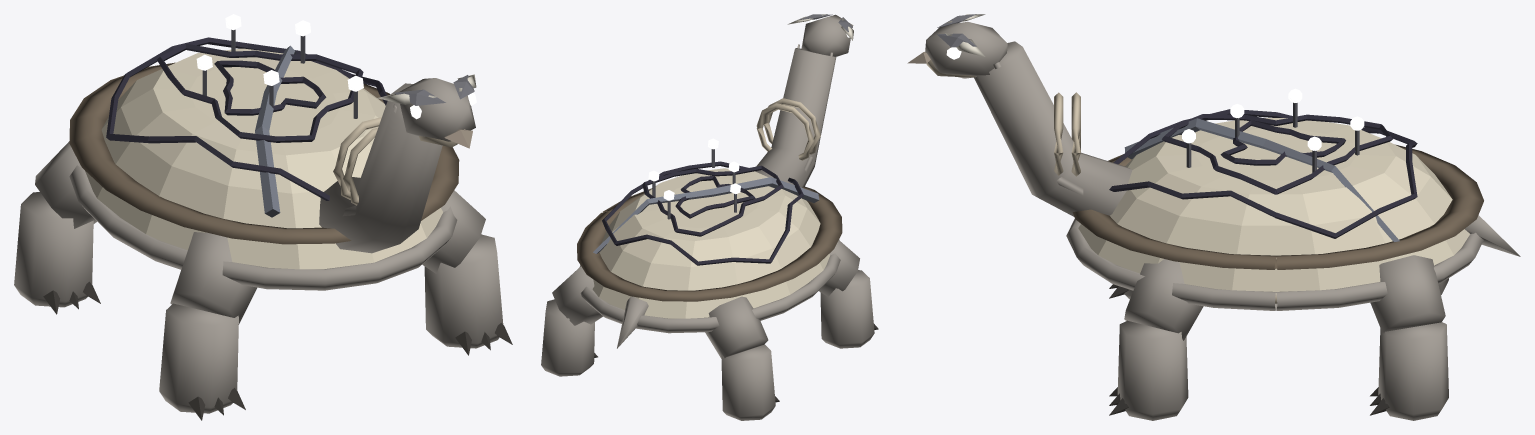
Rendered from tortoise-map-back.glb.
The picture shows the model from 3 angles, left to right: view 1: azimuth 30°, elevation 25°; view 2: azimuth 150°, elevation 25°; view 3: azimuth 270°, elevation 25°; orthographic projection. The views are drawn at different scales.
Visible parts, largest first — view 1: tortoise_tortoise-map-back; view 2: tortoise_tortoise-map-back; view 3: tortoise_tortoise-map-back.
Part boxes in pixels (<box>): tortoise_tortoise-map-back: <box>14,14,512,420</box>; tortoise_tortoise-map-back: <box>541,14,878,420</box>; tortoise_tortoise-map-back: <box>907,14,1520,420</box>.
Bounding box in the file's own units: 0.5898 × 0.617 × 1.05.
